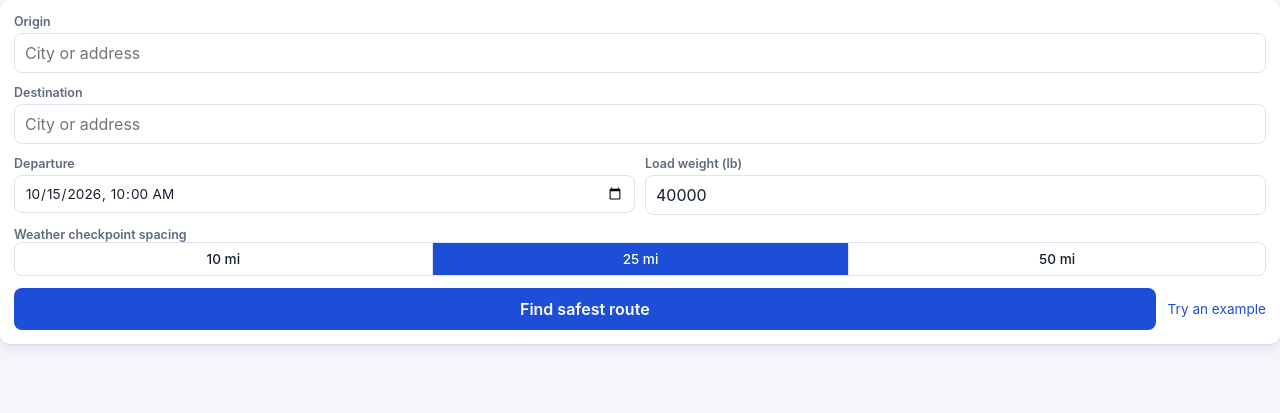
Test: TripForm › rejects an invalid load weight
Click the button "Try an example" at (1217, 309), box [1168, 297, 1266, 321]
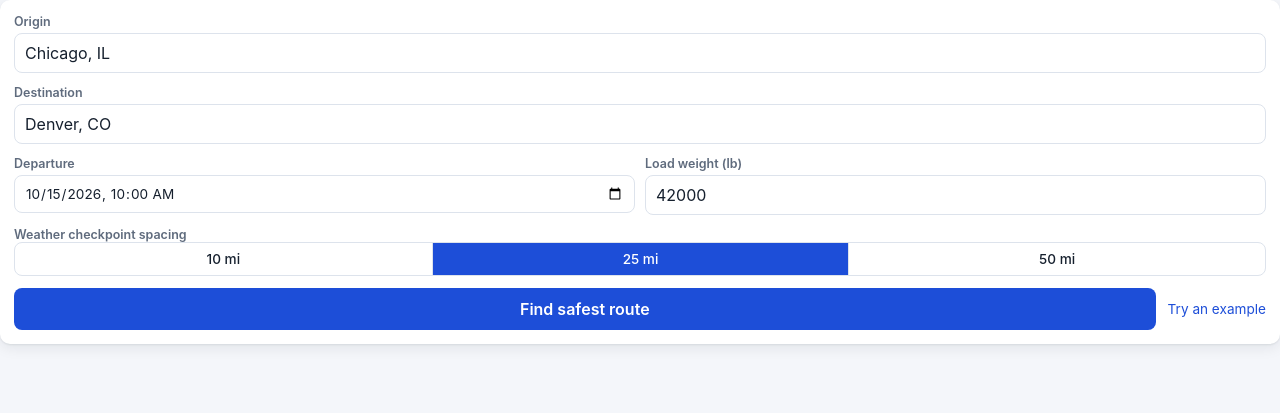
Replace the text in the number field labelled "Load weight (lb)" with "999999" at (956, 195), box [645, 175, 1266, 215]
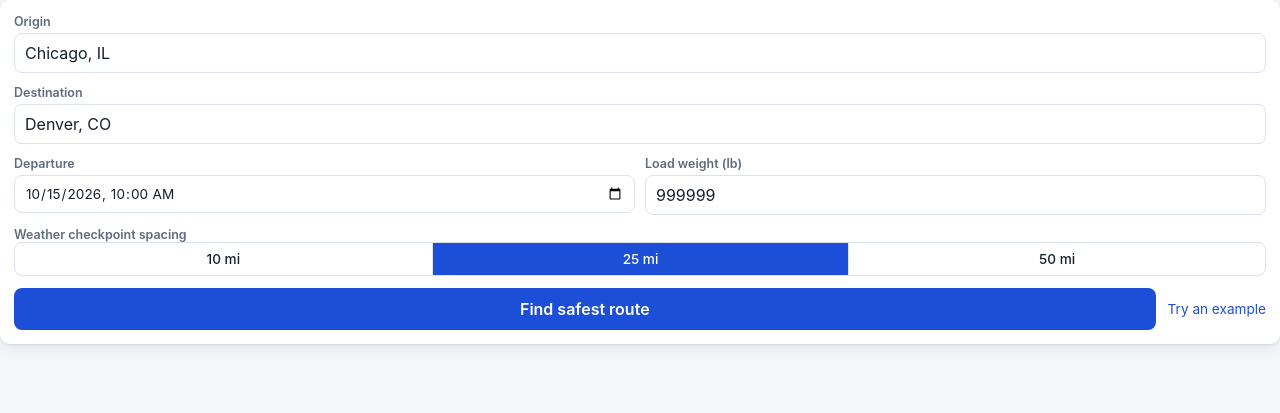
Click the button "Find safest route" at (585, 309), box [14, 288, 1156, 330]
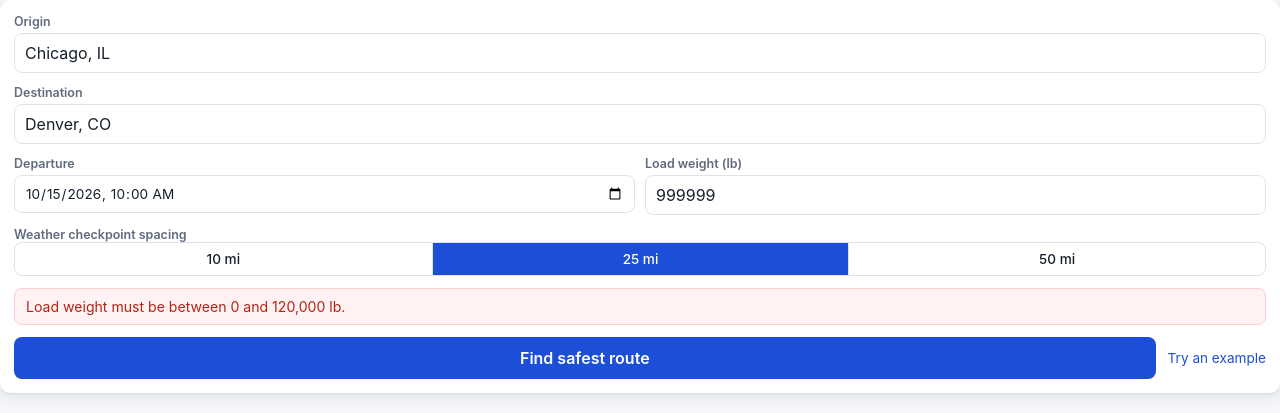
Check: the message shows "Load weight", box [26, 298, 345, 315]
